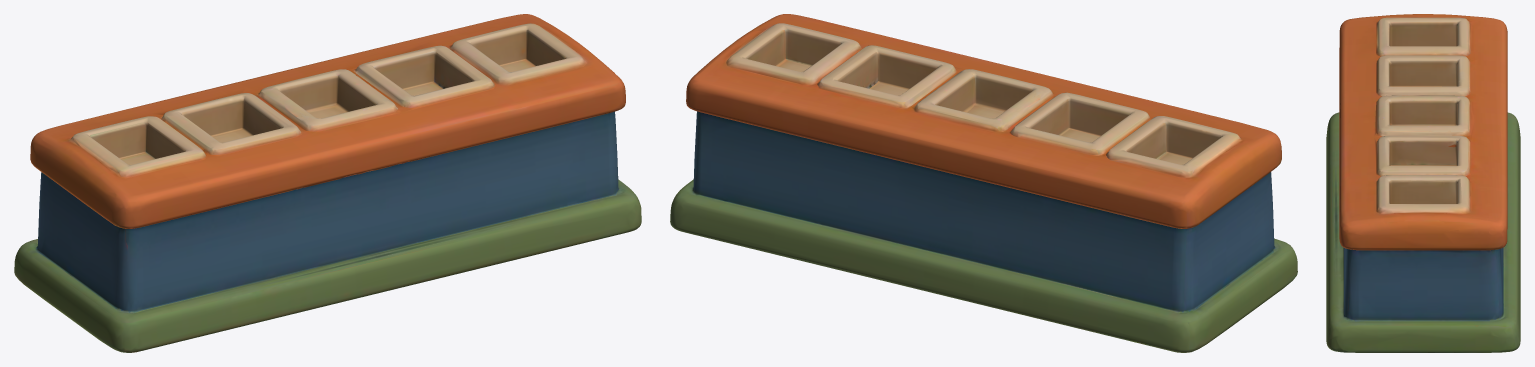
Rendered from next-plinth.glb.
The picture shows the model from 3 angles, left to right: view 1: azimuth 30°, elevation 25°; view 2: azimuth 150°, elevation 25°; view 3: azimuth 270°, elevation 25°; orthographic projection. The views are drawn at different scales.
Visible parts, largest first — view 1: textured_mesh.obj; view 2: textured_mesh.obj; view 3: textured_mesh.obj.
Part boxes in pixels (<box>): textured_mesh.obj: <box>14,14,641,352</box>; textured_mesh.obj: <box>670,14,1297,352</box>; textured_mesh.obj: <box>1326,14,1520,352</box>.
Bounding box in the file's own units: 3.53 × 0.9994 × 1.32.
1 material, 1 textured.
